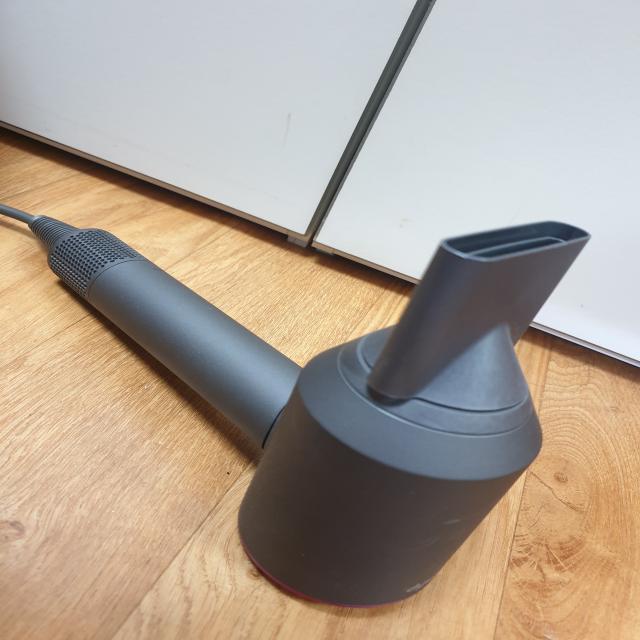dryer: (0, 202, 594, 607)
